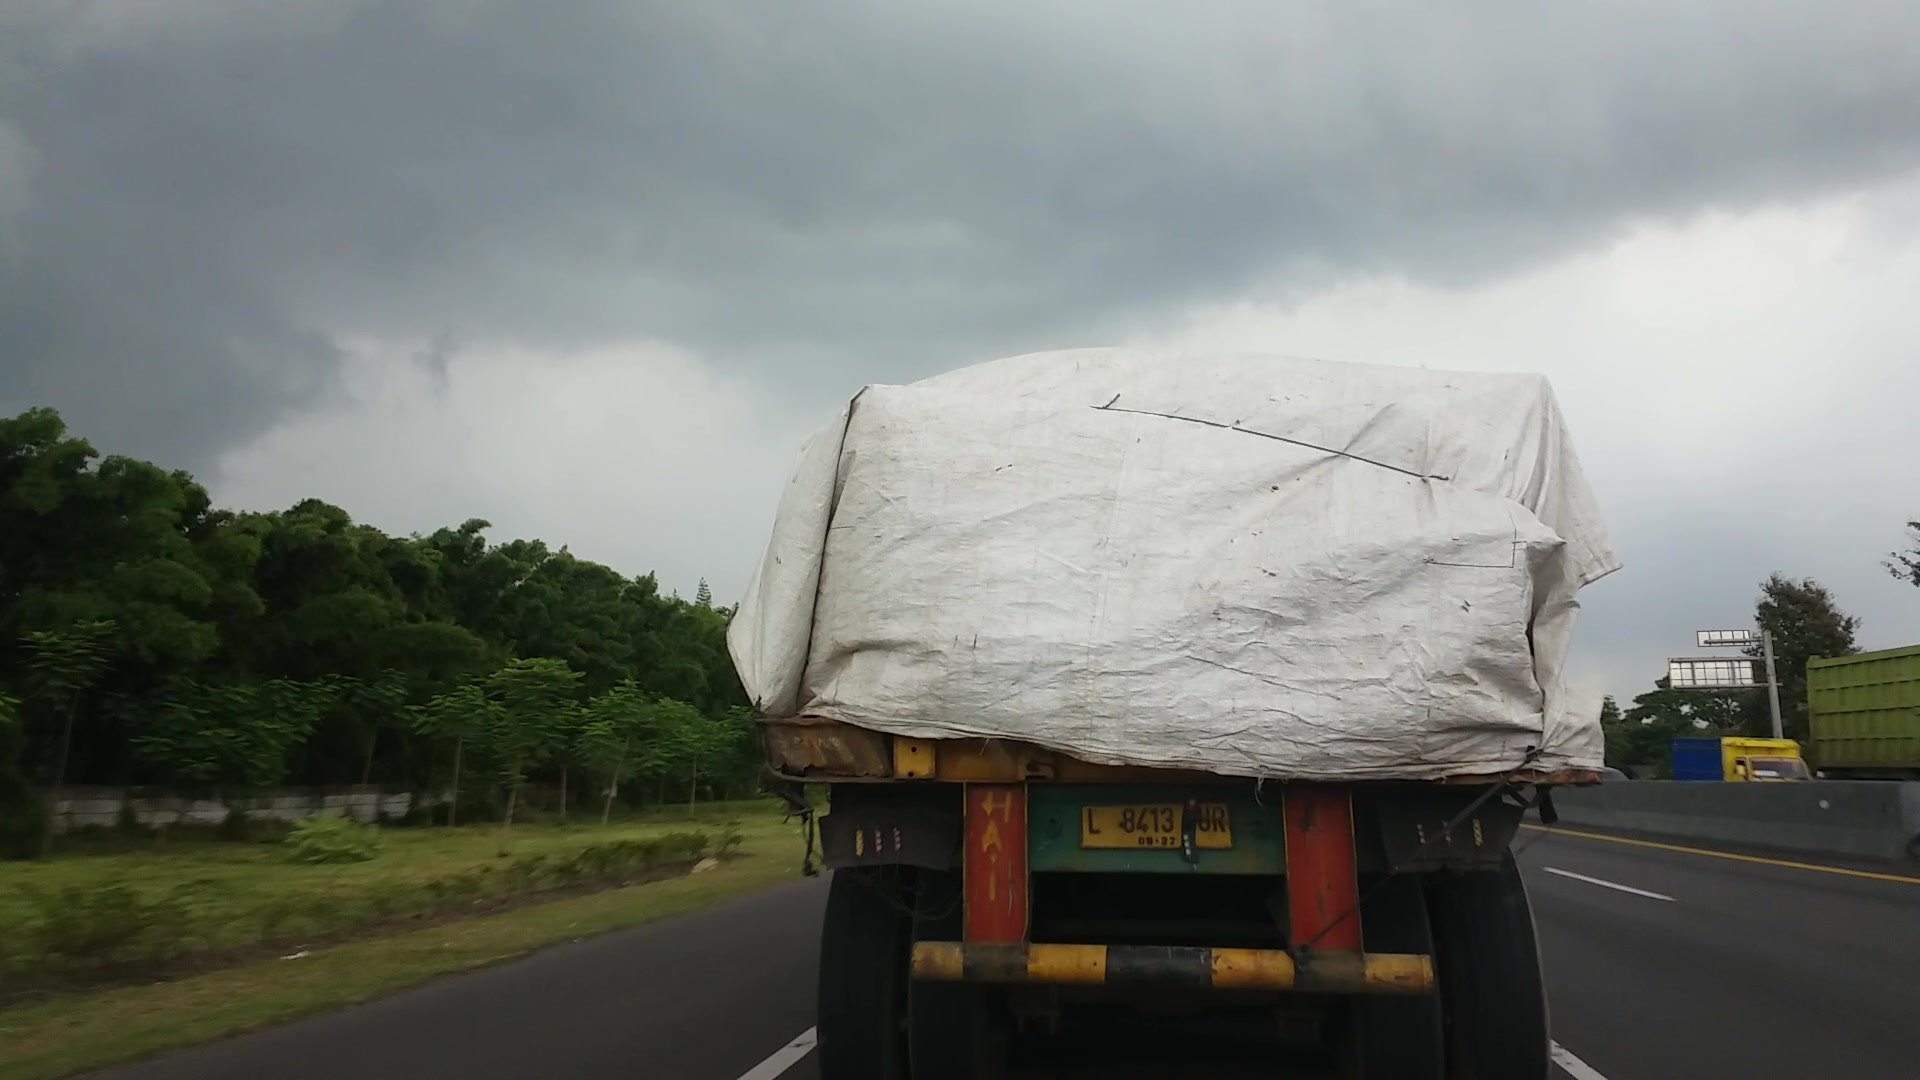plate_positive: (1083, 802, 1232, 851)
